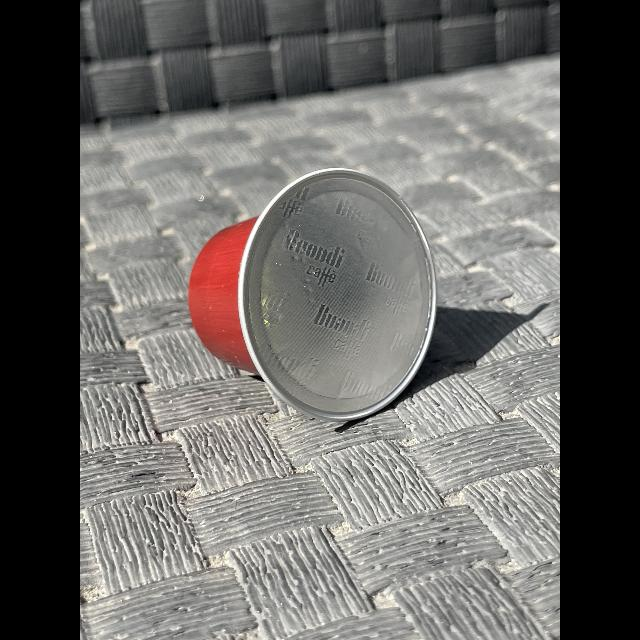intact_capsule: (170, 156, 456, 436)
